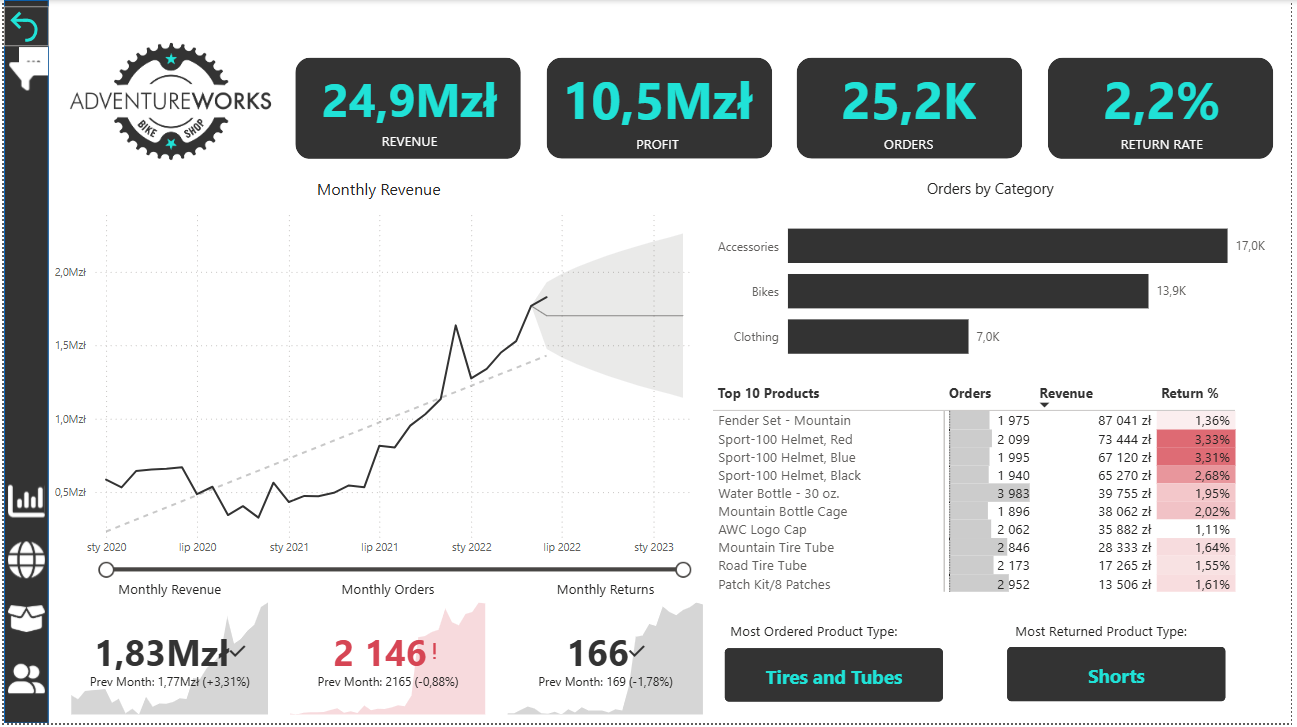

Layout of this report page (visuals, bound fields, positions):
{"tool":"powerbi","page":{"name":"Executive Dashboard","canvas":[1280,720],"ordinal":0},"visuals":[{"type":"image","title":"AW Logo","box":[44,26.6,245.4,149.3],"z":0},{"type":"cardVisual","fields":{"Data":["Measure Table DAX.Total Revenue"]},"box":[268.5,39.4,270.6,135.9],"z":0,"group":"g2"},{"type":"group","id":"g1","title":"KPI Backgrounds","box":[289.1,56.6,973.3,101.2],"z":0,"group":"g3"},{"type":"shape","box":[538.6,57.1,224.6,100.7],"z":0,"group":"g1"},{"type":"shape","title":"Left Nav Background","box":[0,0,44.4,720],"z":1000},{"type":"group","id":"g2","title":"KPI Values","box":[268.5,39.3,1011.7,136],"z":1000,"group":"g3"},{"type":"cardVisual","fields":{"Data":["Measure Table DAX.Ilość Zamówień"]},"box":[786.9,39.3,226.4,135.5],"z":1000,"group":"g2"},{"type":"shape","box":[788.3,57.1,224.6,100.7],"z":1000,"group":"g1"},{"type":"group","id":"g3","title":"KPI","box":[268.5,39.3,1011.5,136.6],"z":2000},{"type":"cardVisual","fields":{"Data":["Measure Table DAX.Return Rate"]},"box":[1023.1,39.3,257.1,135.5],"z":2000,"group":"g2"},{"type":"shape","box":[289.1,56.6,224.4,101.1],"z":2000,"group":"g1"},{"type":"cardVisual","fields":{"Data":["Measure Table DAX.Total Profit"]},"box":[515.2,39.3,271.1,135.5],"z":3000,"group":"g2"},{"type":"shape","box":[1038,56.6,224.4,101.1],"z":3000,"group":"g1"},{"type":"lineChart","title":"Monthly Revenue","fields":{"Category":["Calendar Lookup.Początek miesiąca"],"Y":["Measure Table DAX.Total Revenue"]},"box":[44.3,176.4,656.1,401.1],"z":3000},{"type":"kpi","title":"Monthly Revenue","fields":{"Goal":["Measure Table DAX.Previus Month Revenue"],"Indicator":["Measure Table DAX.Total Revenue"],"TrendLine":["Calendar Lookup.Początek miesiąca"]},"box":[62.5,577.5,205.6,139.1],"z":4000},{"type":"kpi","title":"Monthly Orders","fields":{"Goal":["Measure Table DAX.Previous Month Orders"],"Indicator":["Measure Table DAX.Ilość Zamówień"],"TrendLine":["Calendar Lookup.Początek miesiąca"]},"box":[279.7,577.5,204.6,139.1],"z":5000},{"type":"kpi","title":"Monthly Returns","fields":{"Goal":["Measure Table DAX.Previous Month Returns"],"Indicator":["Measure Table DAX.Ilość Zwrotów"],"TrendLine":["Calendar Lookup.Początek miesiąca"]},"box":[495.9,577.5,204.6,139.1],"z":6000},{"type":"barChart","title":"Orders by Category","fields":{"Category":["Product Categories Lookup.CategoryName"],"Y":["Measure Table DAX.Ilość Zamówień"]},"box":[700.5,176.4,562.4,200.6],"z":7000},{"type":"pivotTable","fields":{"Rows":["Product Lookup.ProductName"],"Values":["Measure Table DAX.Ilość Zamówień","Measure Table DAX.Total Revenue","Measure Table DAX.Return Rate"]},"box":[700,377.1,551.4,235.7],"z":8000},{"type":"cardVisual","fields":{"Data":["Min(Product Subcategories Lookup.SubcategoryName)"]},"box":[700,628.6,251.4,87.1],"z":9000},{"type":"textbox","box":[717.1,612.9,202.9,34.3],"z":10000},{"type":"cardVisual","fields":{"Data":["Min(Product Subcategories Lookup.SubcategoryName)"]},"box":[981.7,626.7,251.7,88.3],"z":11000},{"type":"textbox","box":[1001.7,613.3,181.7,35],"z":12000},{"type":"actionButton","box":[0,6,44.3,40.3],"z":13000},{"type":"actionButton","box":[0,473.7,44.7,49.4],"z":14000},{"type":"actionButton","box":[0,650,44.7,49.4],"z":15000},{"type":"actionButton","box":[0,591.2,44.7,49.4],"z":16000},{"type":"actionButton","box":[0,532.5,44.7,49.4],"z":17000},{"type":"actionButton","box":[1.2,56.4,43.5,40],"z":18000}]}

Visuals, with their boxes on the page's 1280x720 design canvas (x1, y1, x2, y2). These are canvas units, not pixel positions in the 1297x727 screenshot, which may show the page scaled, cropped or inside an application window:
"AW Logo" image: crop(44, 27, 289, 176)
cardVisual - Measure Table DAX.Total Revenue: crop(268, 39, 539, 175)
"KPI Backgrounds" group: crop(289, 57, 1262, 158)
shape: crop(539, 57, 763, 158)
"Left Nav Background" shape: crop(0, 0, 44, 720)
"KPI Values" group: crop(268, 39, 1280, 175)
cardVisual - Measure Table DAX.Ilość Zamówień: crop(787, 39, 1013, 175)
shape: crop(788, 57, 1013, 158)
"KPI" group: crop(268, 39, 1280, 176)
cardVisual - Measure Table DAX.Return Rate: crop(1023, 39, 1280, 175)
shape: crop(289, 57, 514, 158)
cardVisual - Measure Table DAX.Total Profit: crop(515, 39, 786, 175)
shape: crop(1038, 57, 1262, 158)
"Monthly Revenue" lineChart: crop(44, 176, 700, 578)
"Monthly Revenue" kpi: crop(62, 578, 268, 717)
"Monthly Orders" kpi: crop(280, 578, 484, 717)
"Monthly Returns" kpi: crop(496, 578, 700, 717)
"Orders by Category" barChart: crop(700, 176, 1263, 377)
pivotTable - Product Lookup.ProductName x Measure Table DAX.Ilość Zamówień: crop(700, 377, 1251, 613)
cardVisual - Min(Product Subcategories Lookup.SubcategoryName): crop(700, 629, 951, 716)
textbox: crop(717, 613, 920, 647)
cardVisual - Min(Product Subcategories Lookup.SubcategoryName): crop(982, 627, 1233, 715)
textbox: crop(1002, 613, 1183, 648)
actionButton: crop(0, 6, 44, 46)
actionButton: crop(0, 474, 45, 523)
actionButton: crop(0, 650, 45, 699)
actionButton: crop(0, 591, 45, 641)
actionButton: crop(0, 532, 45, 582)
actionButton: crop(1, 56, 45, 96)
